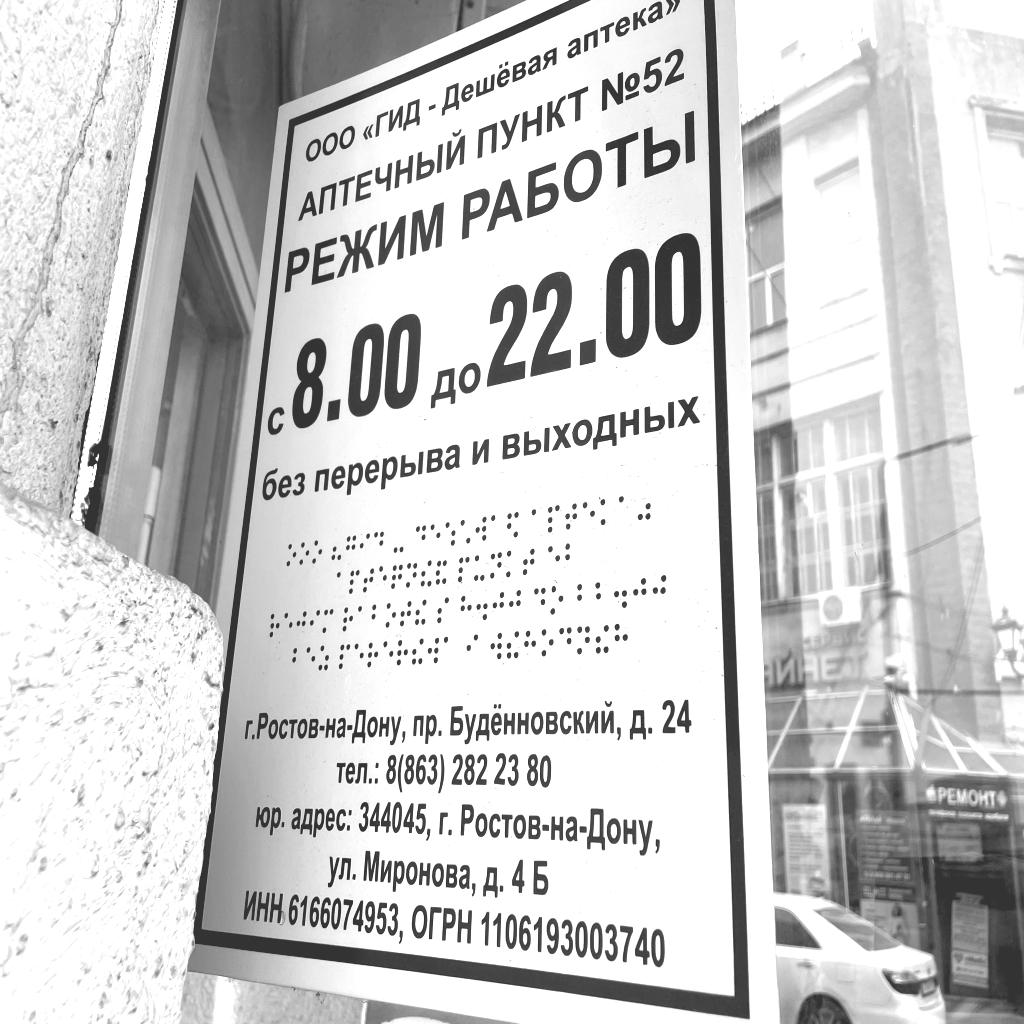_n: (576, 625, 591, 656), (490, 551, 503, 580), (406, 561, 418, 589)
_y: (474, 554, 486, 583)
a: (443, 636, 456, 663), (531, 508, 544, 534), (618, 496, 631, 521), (491, 514, 502, 540), (358, 605, 368, 629), (337, 571, 347, 593)
b: (371, 604, 382, 628), (292, 648, 303, 672)
ch: (391, 564, 403, 590)
d: (559, 626, 573, 657), (533, 586, 547, 616), (416, 524, 427, 549), (374, 530, 384, 555)
defis: (393, 529, 404, 554)
e: (582, 501, 596, 528), (383, 640, 394, 668), (430, 523, 441, 548), (284, 612, 294, 638), (355, 643, 365, 669), (306, 646, 316, 671), (379, 565, 388, 591)
g: (346, 535, 357, 560)
gh: (296, 611, 307, 636)
i: (466, 634, 478, 663), (360, 533, 371, 558), (310, 609, 320, 635)
iKratkoe: (435, 559, 448, 586)
ii: (595, 624, 610, 655), (506, 630, 520, 660), (414, 599, 427, 627), (411, 638, 424, 666), (421, 559, 432, 588)
k: (600, 499, 613, 526), (506, 550, 518, 579)
kavichki1: (331, 537, 342, 562)
kavichki2: (637, 492, 651, 522)
m: (323, 608, 335, 634)
o: (550, 585, 564, 615), (541, 628, 554, 657), (385, 603, 396, 629), (312, 540, 323, 565), (287, 542, 297, 567), (300, 543, 310, 566)
p: (338, 643, 351, 670), (548, 504, 560, 533), (458, 556, 470, 583), (349, 569, 360, 595)
r: (396, 639, 409, 667), (367, 642, 379, 669), (269, 613, 280, 639), (343, 606, 354, 632)
s: (436, 596, 450, 625)
sh: (445, 521, 456, 547)
t: (522, 548, 536, 577), (565, 502, 578, 531), (400, 600, 412, 628), (363, 567, 375, 593)
tochka: (614, 575, 628, 610), (477, 590, 489, 621)
v: (490, 631, 503, 661), (427, 636, 440, 665), (475, 516, 487, 542)
x: (614, 623, 628, 655), (524, 630, 537, 659)
ya: (507, 511, 519, 538)
yo: (461, 519, 472, 545)
z: (318, 645, 329, 672)
